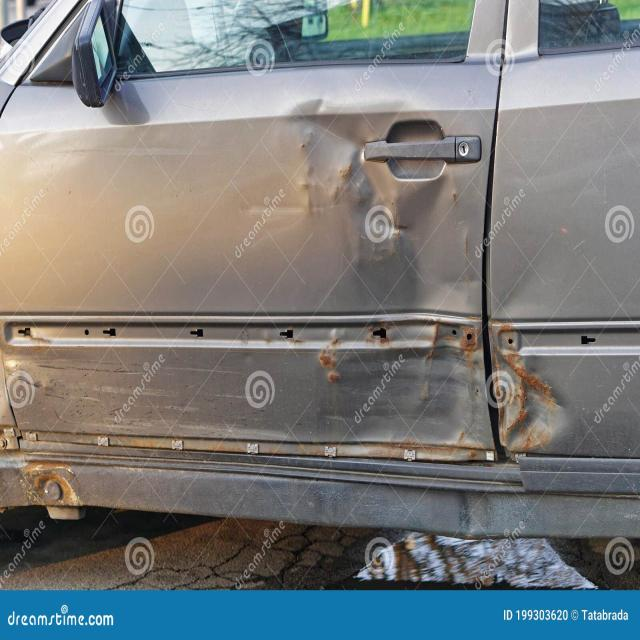dent: (242, 97, 577, 534)
misalignment: (481, 67, 509, 460)
missing: (0, 428, 524, 490), (6, 319, 640, 354)
scratch: (0, 312, 568, 506), (368, 198, 410, 265), (463, 233, 471, 288), (336, 163, 355, 178), (299, 139, 315, 149), (450, 192, 459, 204), (301, 182, 308, 189)
